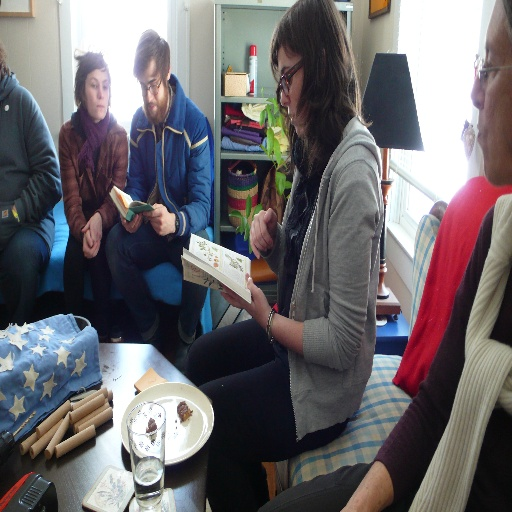hand: (218, 269, 272, 327), (247, 199, 283, 255), (144, 200, 170, 239), (81, 211, 102, 246), (81, 224, 100, 258), (0, 203, 16, 243), (119, 211, 144, 234)
